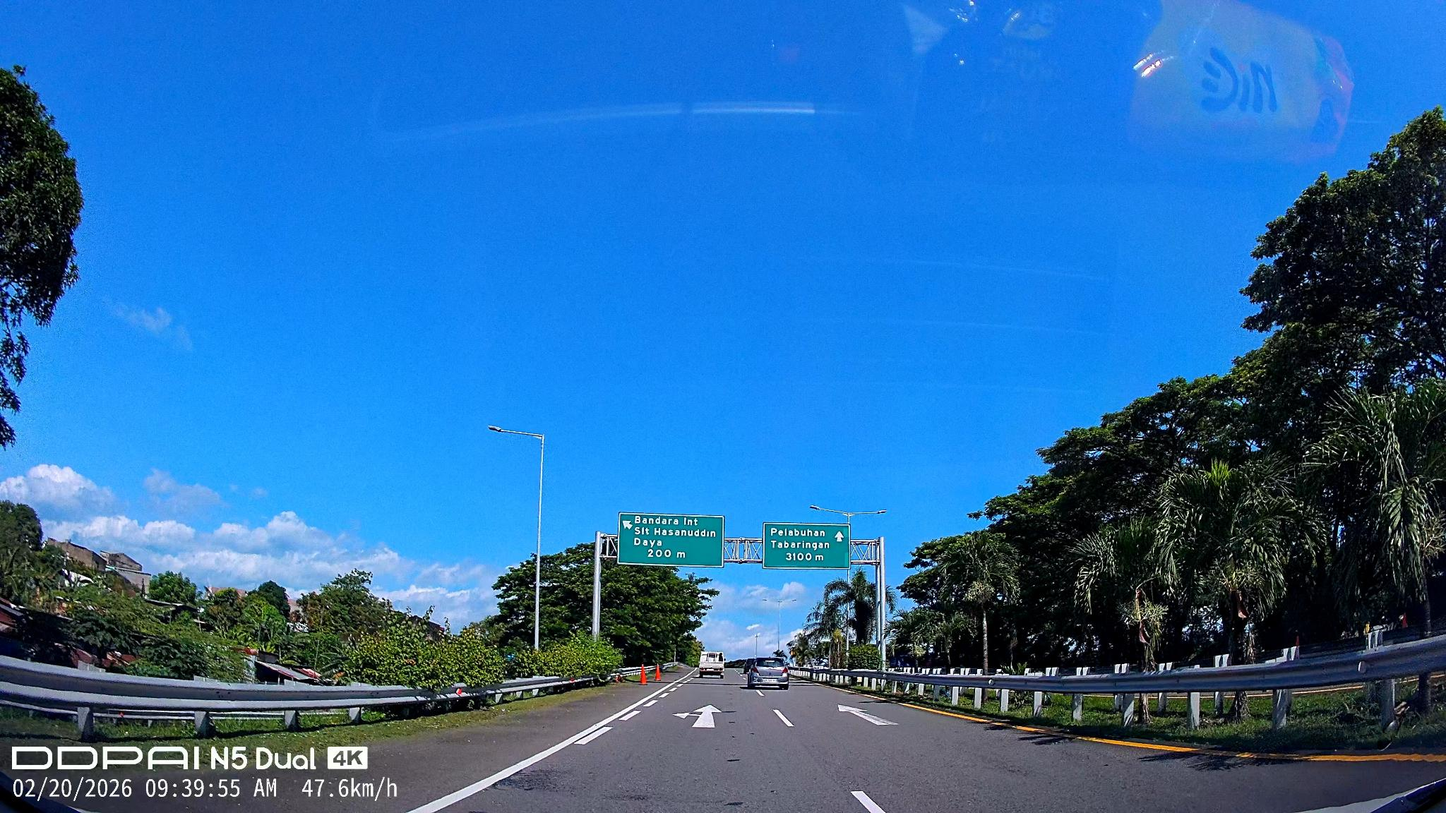rambu_teks: (618, 512, 725, 569), (764, 522, 851, 570)
